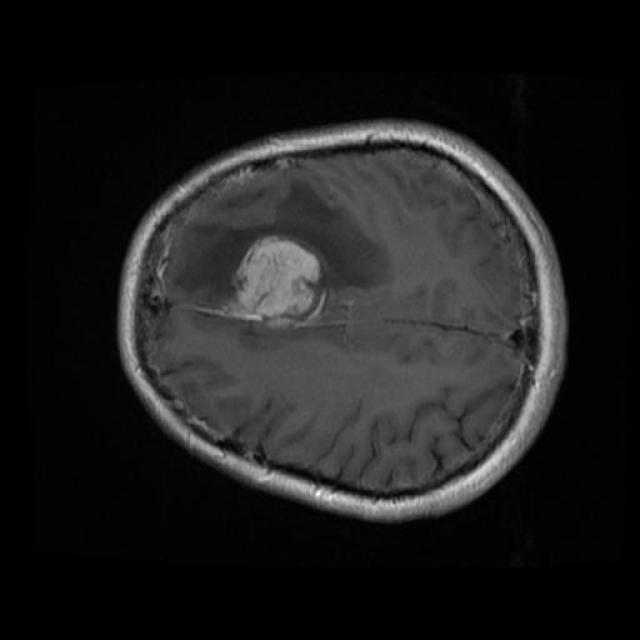Meningioma: (233, 236, 323, 318)
